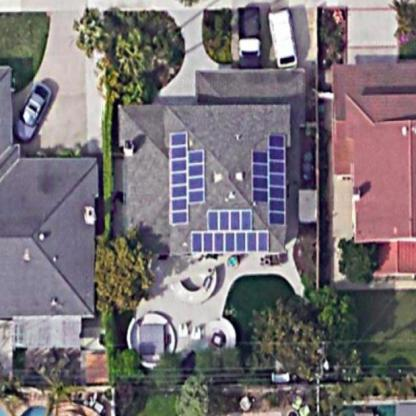car: (15, 77, 51, 146), (267, 2, 301, 74), (234, 4, 268, 69)
solar_panel: (188, 205, 274, 258), (247, 129, 290, 227), (164, 128, 204, 231)
swimming_pool: (220, 270, 307, 367)
